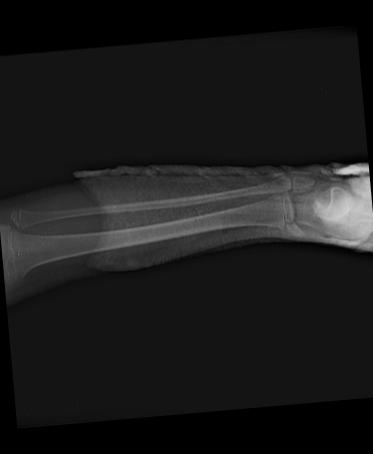fractured: (275, 216, 309, 240)
